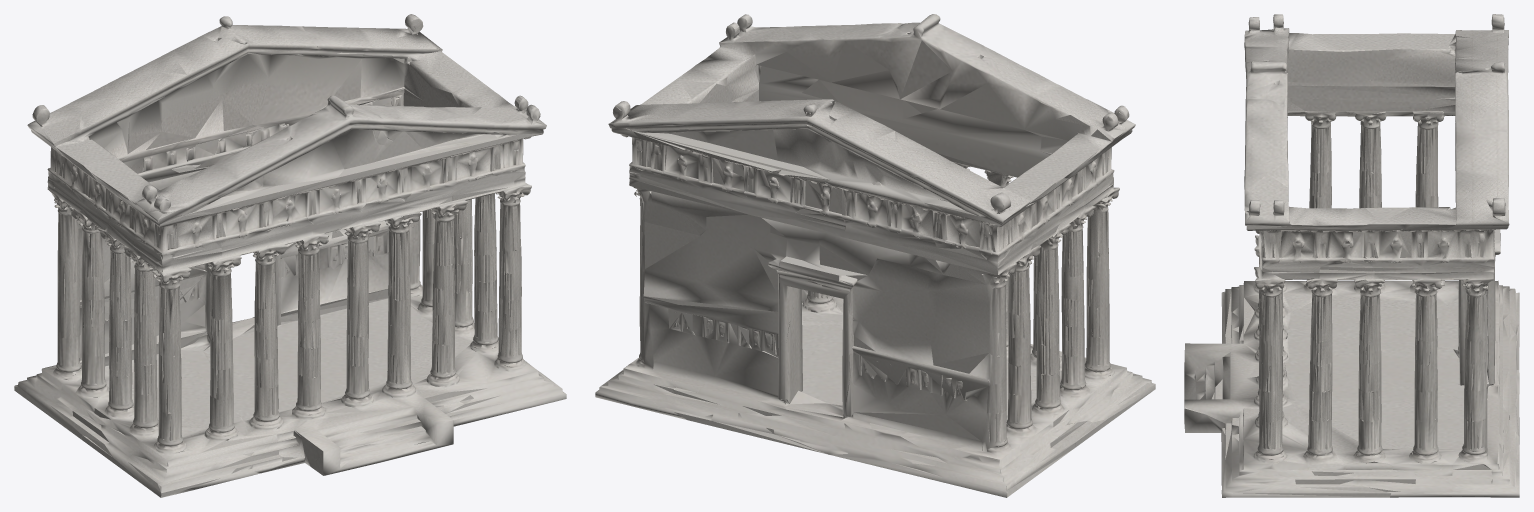
File: maravilha-artemis__01a163ba.glb
3 renders of one model, left to right at view 1: azimuth 30°, elevation 25°; view 2: azimuth 150°, elevation 25°; view 3: azimuth 270°, elevation 25°, orthographic.
Parts seen in each view (by area): view 1: maravilha-artemis__01a163ba; view 2: maravilha-artemis__01a163ba; view 3: maravilha-artemis__01a163ba.
Part boxes in pixels (bbox=[...]): maravilha-artemis__01a163ba: bbox=[14, 14, 566, 497]; maravilha-artemis__01a163ba: bbox=[595, 14, 1155, 497]; maravilha-artemis__01a163ba: bbox=[1184, 14, 1519, 497].
Bounding box in the file's own units: 23.08 × 18 × 16.29.
1 material, 1 textured.
